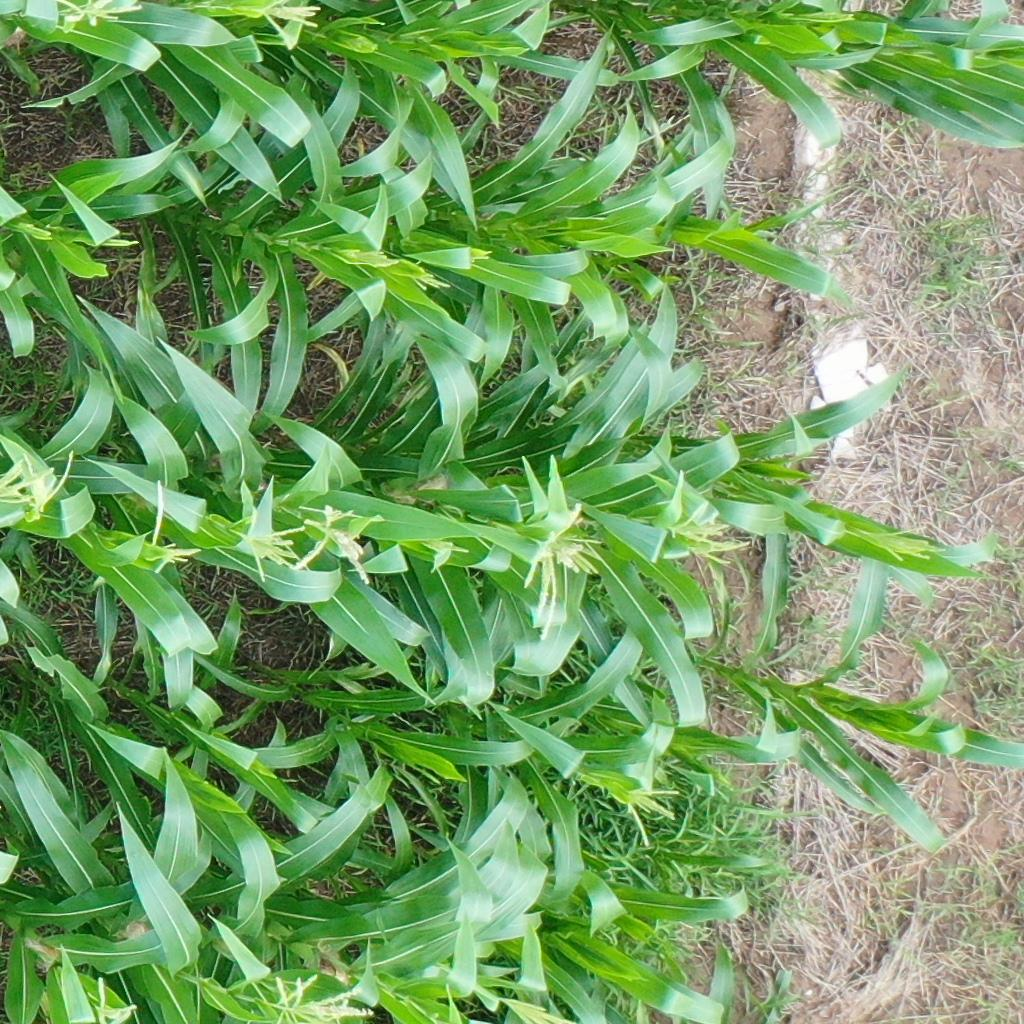Tassel: (522, 503, 589, 641), (292, 503, 375, 592), (667, 501, 755, 571), (269, 974, 372, 1024), (241, 507, 307, 581), (621, 784, 680, 847), (868, 524, 947, 566), (22, 449, 76, 509), (259, 1, 321, 51), (55, 1, 141, 31), (496, 995, 578, 1024), (89, 976, 138, 1024), (1, 463, 56, 504), (140, 543, 201, 571), (345, 246, 400, 270), (410, 271, 449, 293), (347, 37, 379, 53), (803, 12, 855, 21), (437, 541, 469, 554)
